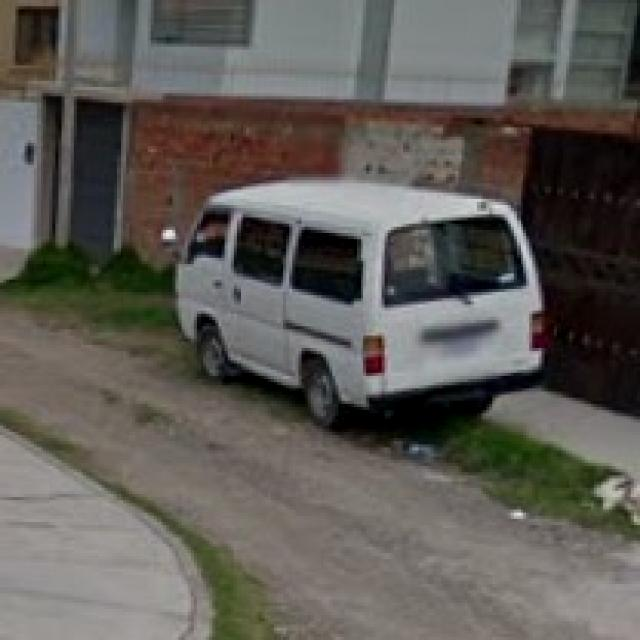car: (173, 171, 549, 428)
